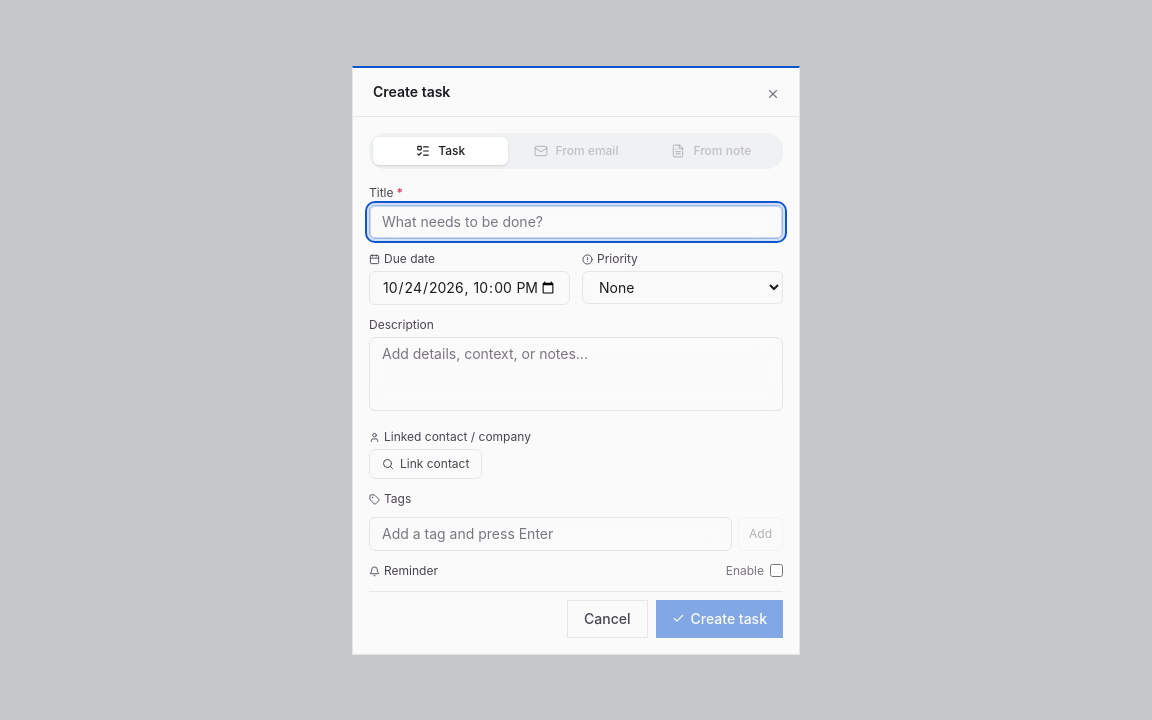
Test: TaskCreateModal › adds a tag when clicking Add button
This screenshot has width=1152, height=720.
Type "crm" into the field with placeholder "Add a tag and press Enter" at (550, 534), box [369,516,732,550]
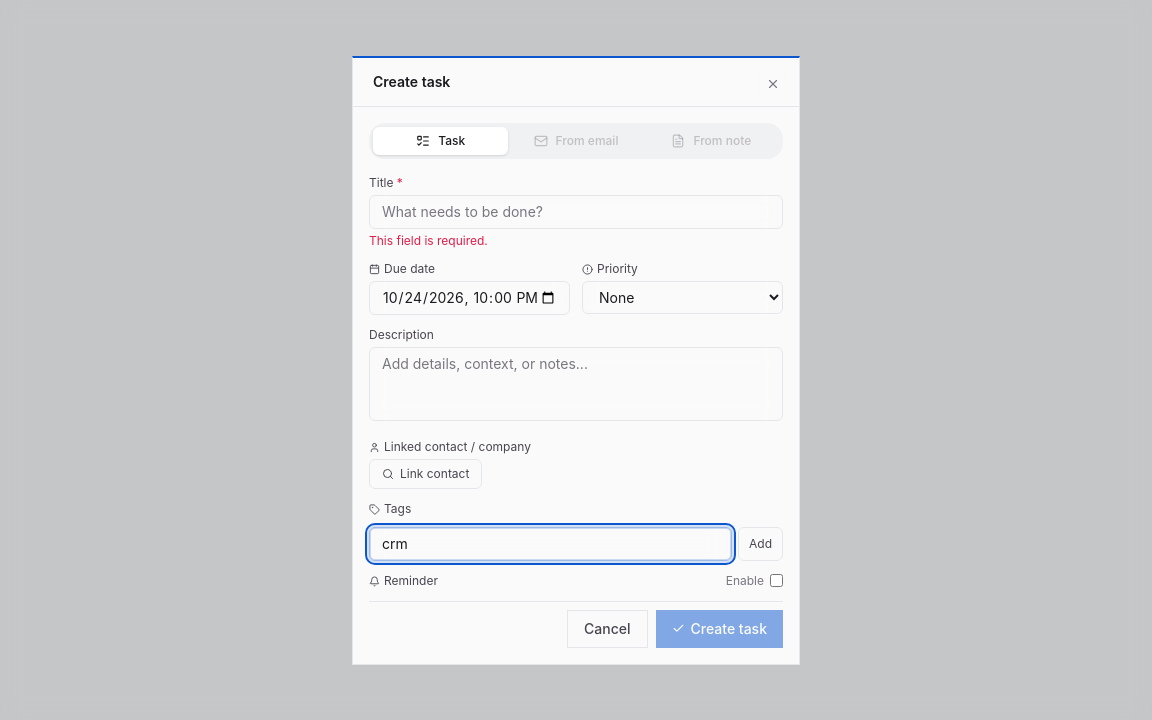
Click the button "Add" at (760, 544), box [738,526,783,560]
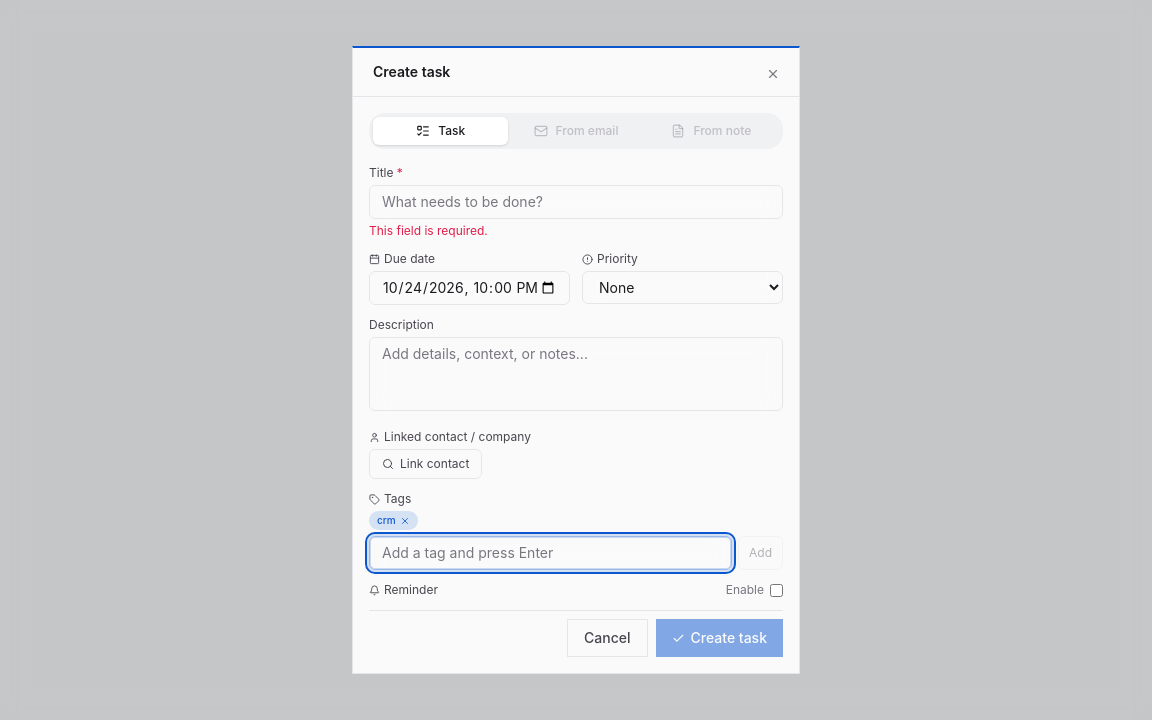
Expected: the text "crm" is shown, [369,511,418,530]
